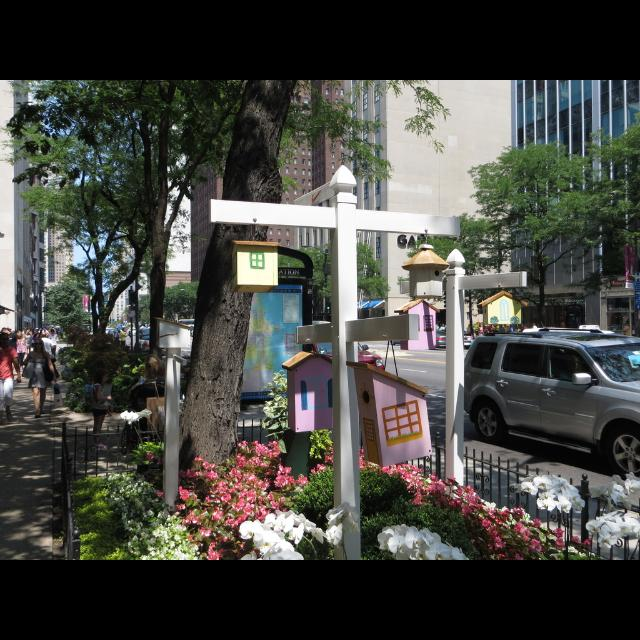Flower: (107, 441, 579, 559), (522, 473, 586, 513), (590, 510, 640, 550), (593, 473, 639, 502), (237, 518, 266, 544), (115, 406, 151, 424)
